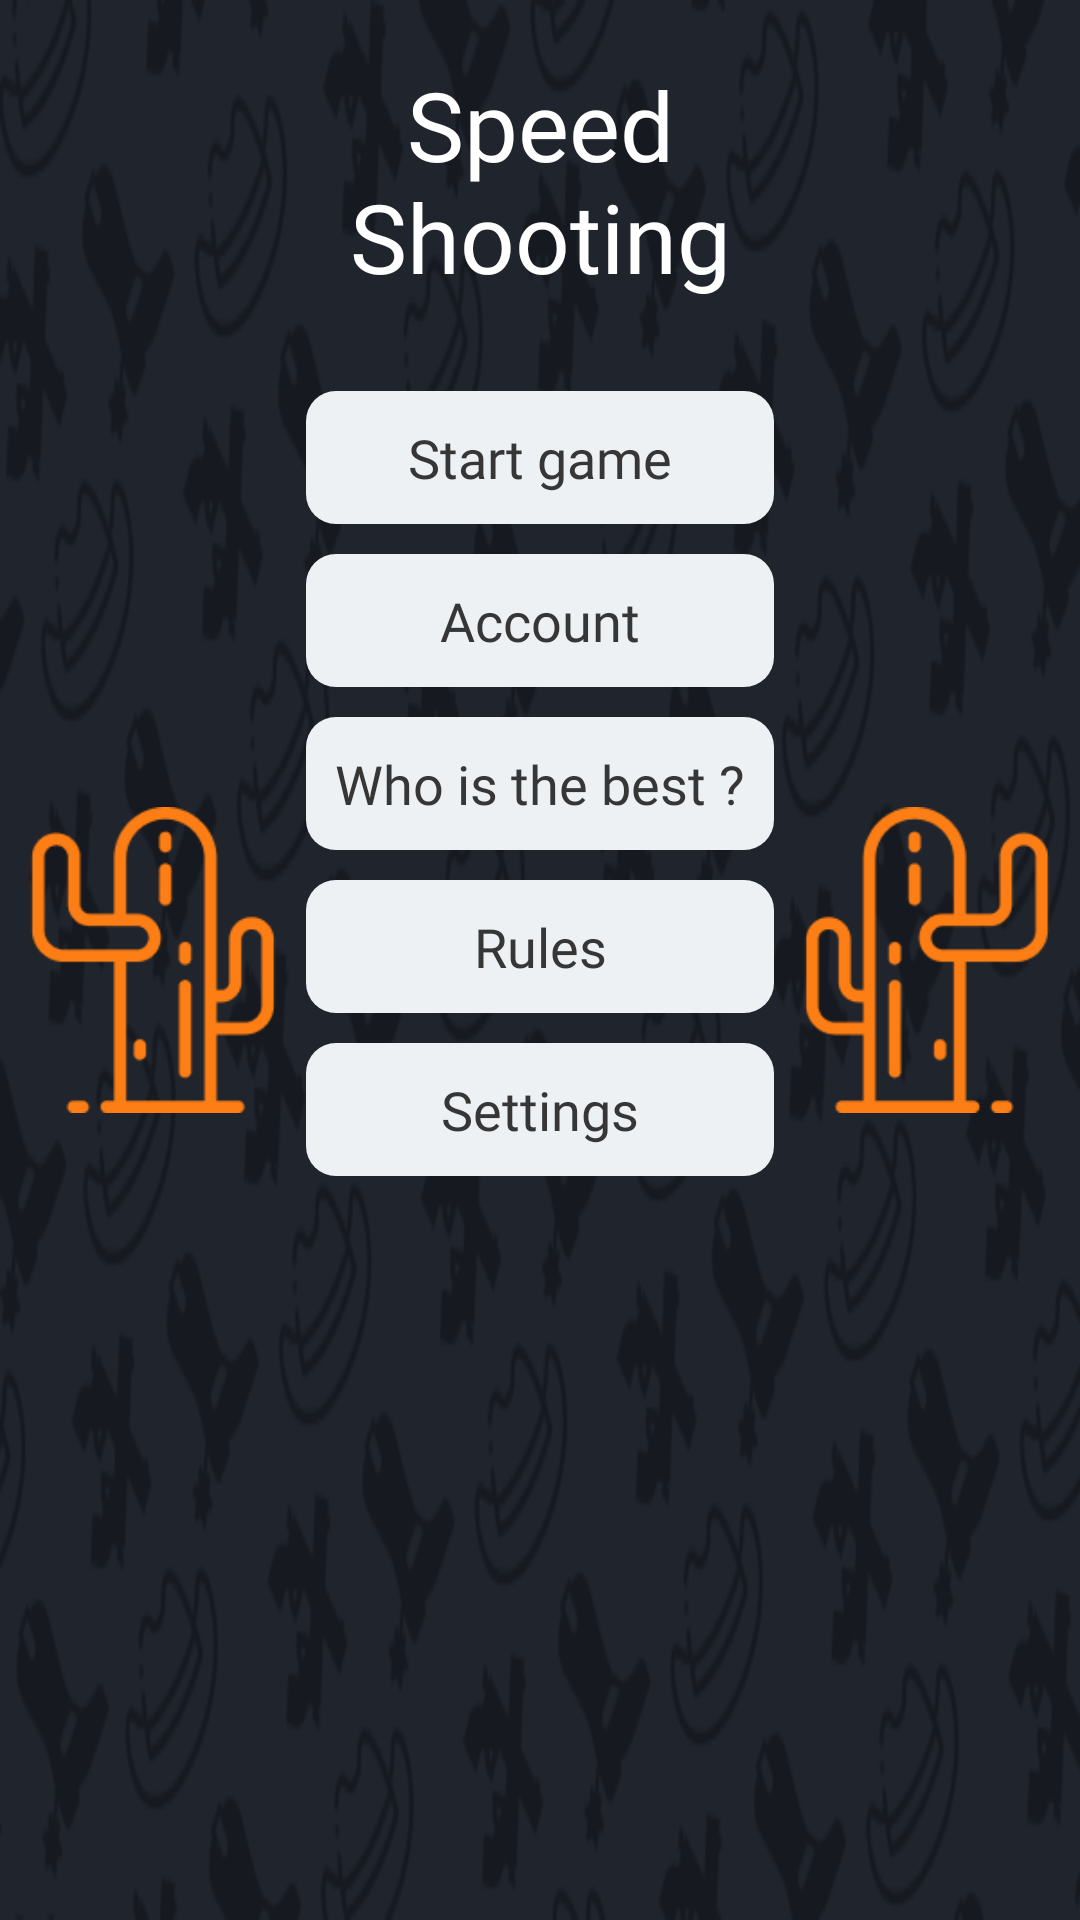

Icon bounding boxes for this 1080x1920 phone screenshot, format {"x1": x1, "y1": y1, "x2": x2, "y2": y2}:
cactus left: {"x1": 31, "y1": 807, "x2": 275, "y2": 1113}
cactus right: {"x1": 805, "y1": 807, "x2": 1049, "y2": 1113}
